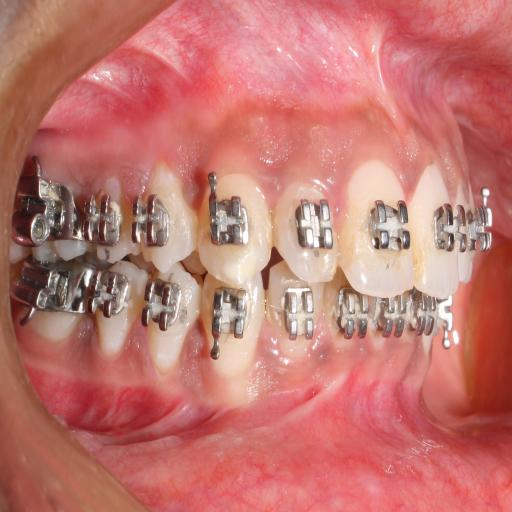correct_brace: (133, 165, 193, 270), (205, 173, 248, 251), (366, 191, 410, 264), (294, 192, 334, 263)
incorrect_brace: (273, 183, 337, 283), (134, 188, 178, 254)
